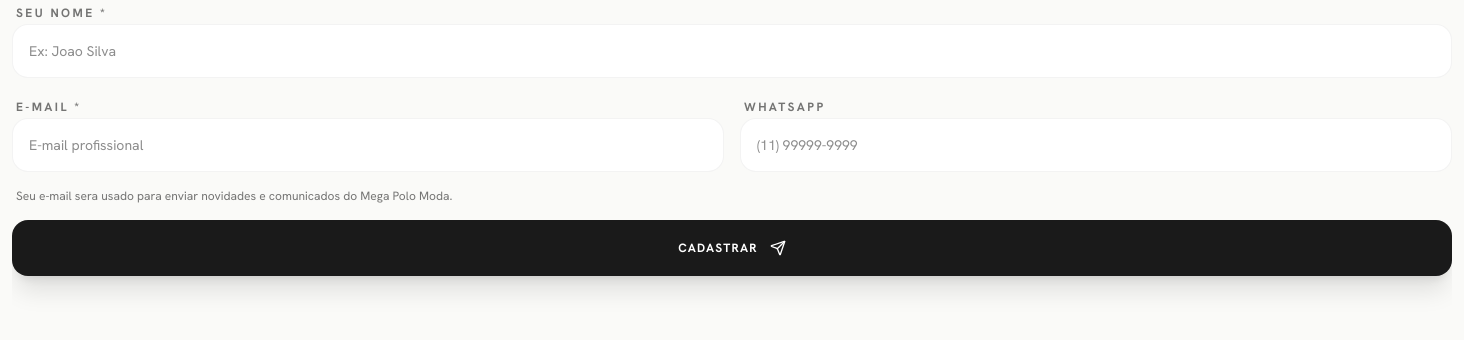
Test: NewsletterForm › valida e-mail antes de enviar
This screenshot has width=1464, height=340.
In the field labelled "Seu Nome *": (732, 51) [12,24,1452,78], type "Comprador Teste"
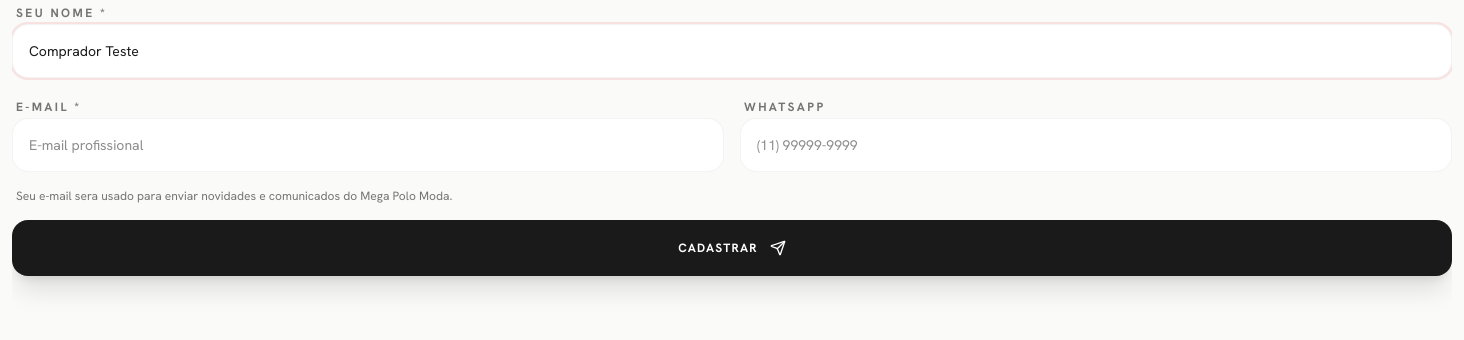
In the field labelled "E-mail *": (368, 145) [12,118,724,172], type "email-invalido"
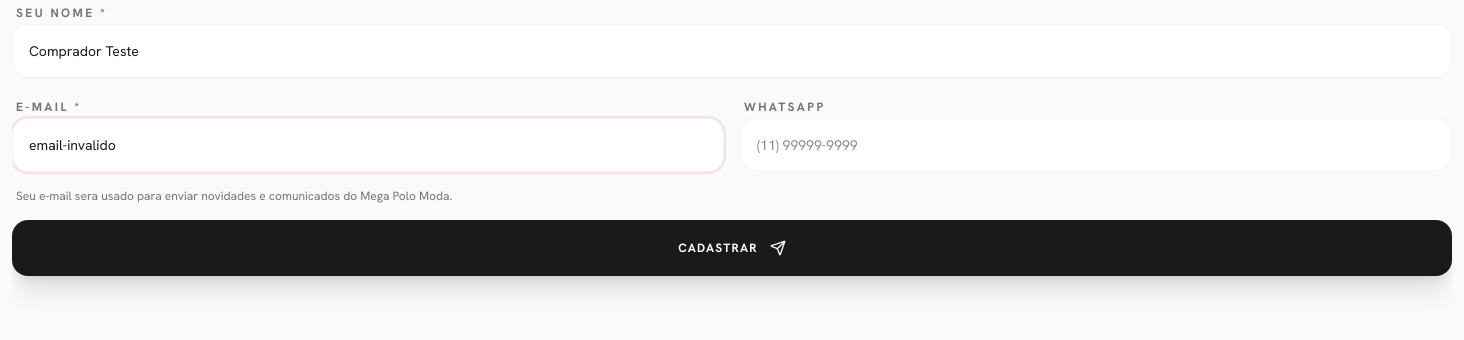
Click the button "CADASTRAR": (732, 248) [12,220,1452,276]
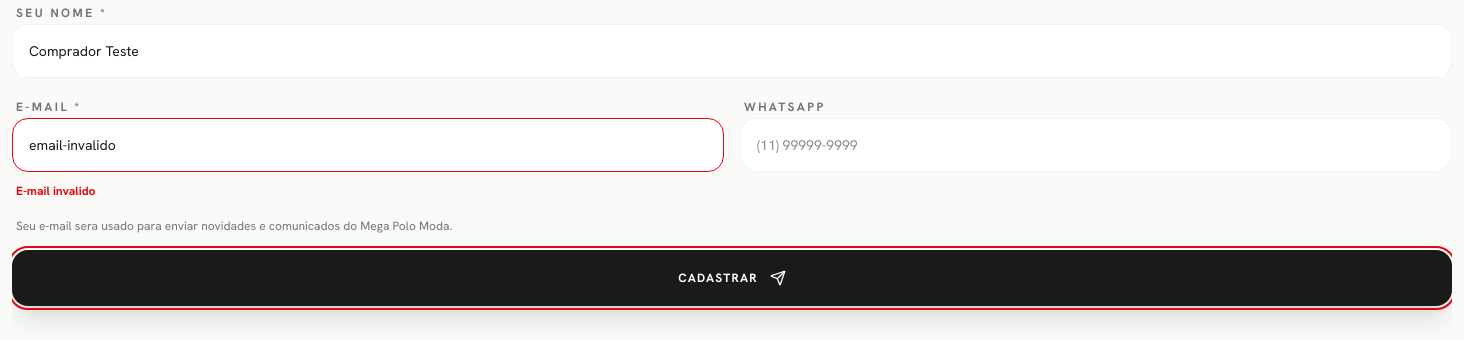
Expected: the message reads "E-mail invalido", [16,183,95,199]
